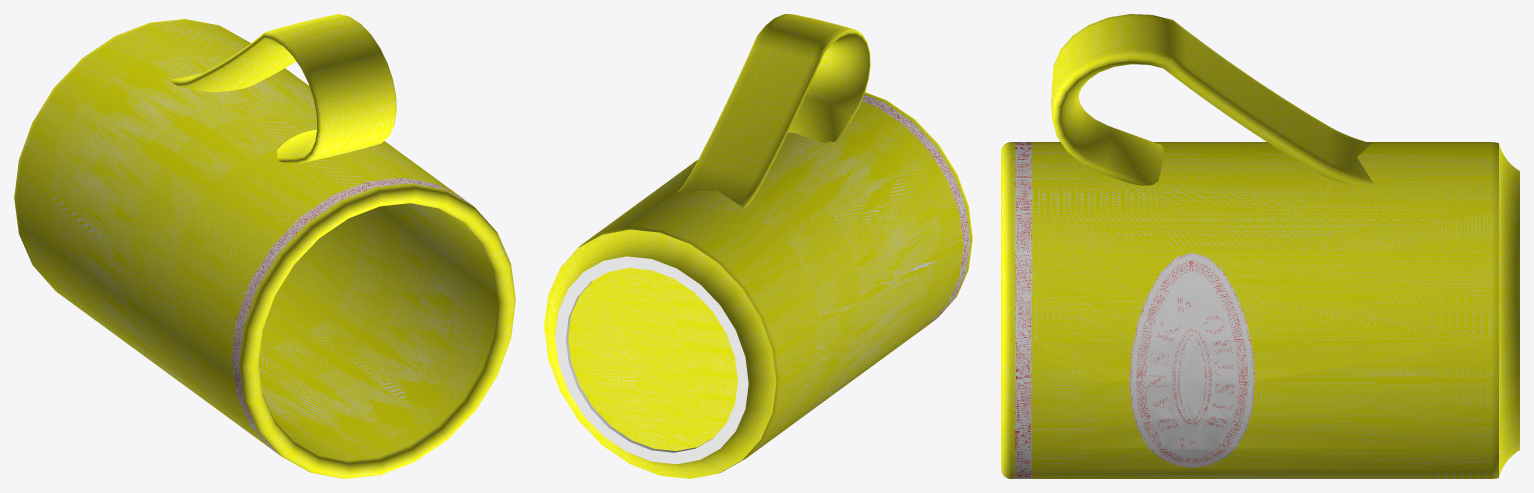
The model's file is model_scale.obj.
The picture shows the model from 3 angles, left to right: view 1: azimuth 30°, elevation 25°; view 2: azimuth 150°, elevation 25°; view 3: azimuth 270°, elevation 25°; orthographic projection. The views are drawn at different scales.
Parts seen in each view (by area): view 1: mesh2_mesh2-geometry, mesh1_mesh1-geometry; view 2: mesh2_mesh2-geometry, mesh1_mesh1-geometry; view 3: mesh2_mesh2-geometry, mesh1_mesh1-geometry.
Boxes of the visible parts, x1,y1,x2,y2 form: mesh2_mesh2-geometry: [14, 19, 515, 478]; mesh1_mesh1-geometry: [171, 14, 396, 163]; mesh2_mesh2-geometry: [544, 92, 972, 478]; mesh1_mesh1-geometry: [678, 14, 870, 207]; mesh2_mesh2-geometry: [1001, 142, 1519, 478]; mesh1_mesh1-geometry: [1051, 14, 1373, 185].
Size of the model in its own units: 0.0816 by 0.1148 by 0.1251.
